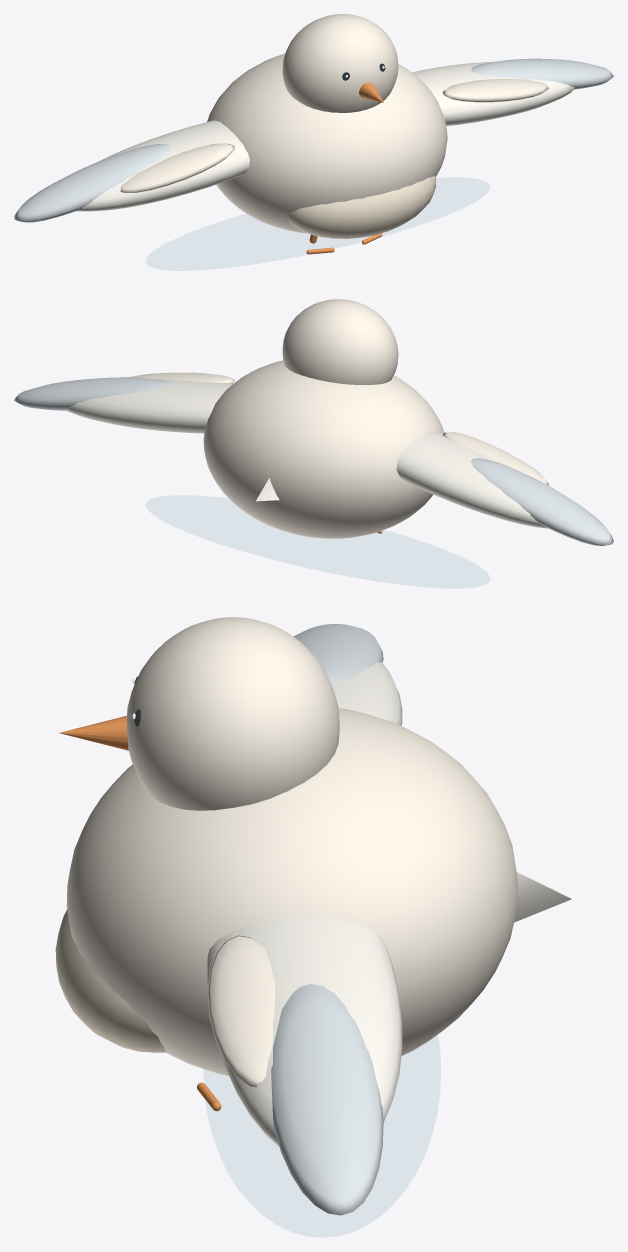
File: Seagull.glb
The picture shows the model from 3 angles, top to bottom: view 1: azimuth 30°, elevation 25°; view 2: azimuth 150°, elevation 25°; view 3: azimuth 270°, elevation 25°; orthographic projection. The views are drawn at different scales.
Visible parts, largest first — view 1: Body, HeadRound, RightWingMain, Belly, RightWingTip, LeftWingMain, LeftWingTip, RightFeatherGlow, LeftFeatherGlow; view 2: Body, HeadRound, RightWingMain, LeftWingMain, RightWingTip, LeftWingTip, RightFeatherGlow, LeftFeatherGlow; view 3: Body, HeadRound, LeftWingTip, LeftWingMain, LeftFeatherGlow, Belly, RightWingTip, RightWingMain, Tail, Beak.
Part boxes in pixels (x1,y1,x2,y2): Body: [207, 53, 447, 233]; HeadRound: [282, 14, 398, 112]; RightWingMain: [76, 120, 249, 211]; Belly: [287, 175, 436, 238]; RightWingTip: [14, 144, 170, 222]; LeftWingMain: [412, 61, 574, 125]; LeftWingTip: [471, 58, 613, 89]; RightFeatherGlow: [120, 143, 234, 192]; LeftFeatherGlow: [442, 79, 548, 102]; Body: [203, 360, 443, 538]; HeadRound: [282, 299, 398, 384]; RightWingMain: [396, 431, 548, 528]; LeftWingMain: [65, 379, 233, 433]; RightWingTip: [471, 458, 613, 546]; LeftWingTip: [14, 377, 170, 410]; RightFeatherGlow: [442, 432, 548, 484]; LeftFeatherGlow: [129, 372, 234, 383]; Body: [66, 708, 517, 1075]; HeadRound: [127, 617, 339, 810]; LeftWingTip: [271, 984, 383, 1215]; LeftWingMain: [206, 917, 402, 1147]; LeftFeatherGlow: [207, 935, 275, 1087]; Belly: [55, 909, 165, 1052]; RightWingTip: [294, 623, 383, 685]; RightWingMain: [332, 662, 402, 725]; Tail: [514, 872, 571, 922]; Beak: [59, 715, 128, 750].
Bounding box in the file's own units: 2.32 × 0.828 × 0.8678.
